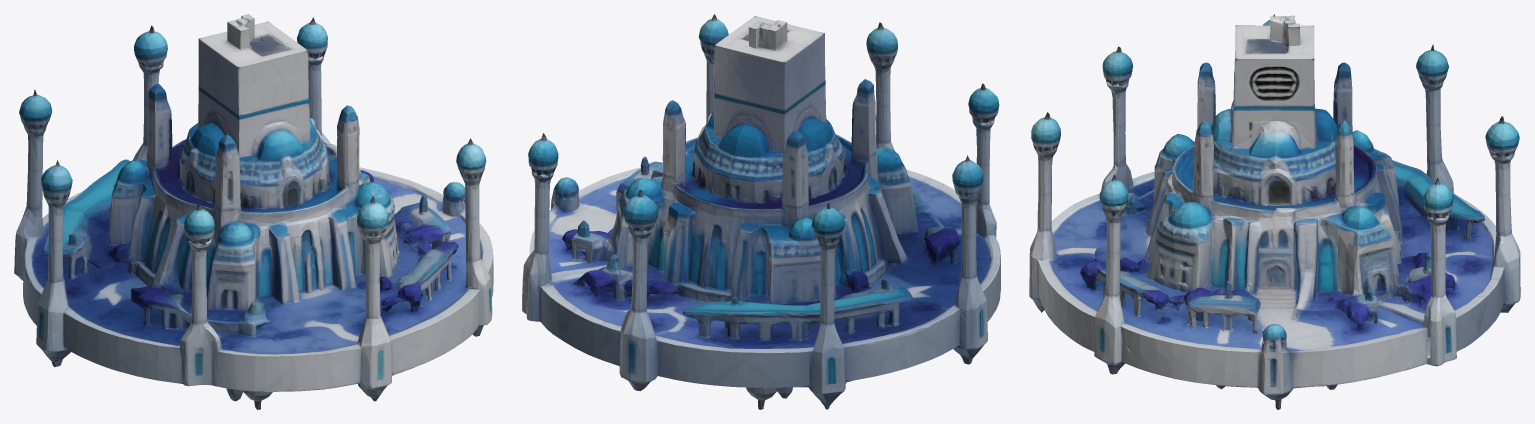
The model's file is MountMonument.glb.
3 renders of one model, left to right at view 1: azimuth 30°, elevation 25°; view 2: azimuth 150°, elevation 25°; view 3: azimuth 270°, elevation 25°, orthographic.
Parts seen in each view (by area): view 1: world; view 2: world; view 3: world.
Boxes of the visible parts, <box> form: world: <box>14,14,493,409</box>; world: <box>522,14,1000,409</box>; world: <box>1029,14,1520,409</box>.
Size of the model in its own units: 0.9915 by 0.8584 by 0.9995.
Materials: 1 (1 with a texture image).
